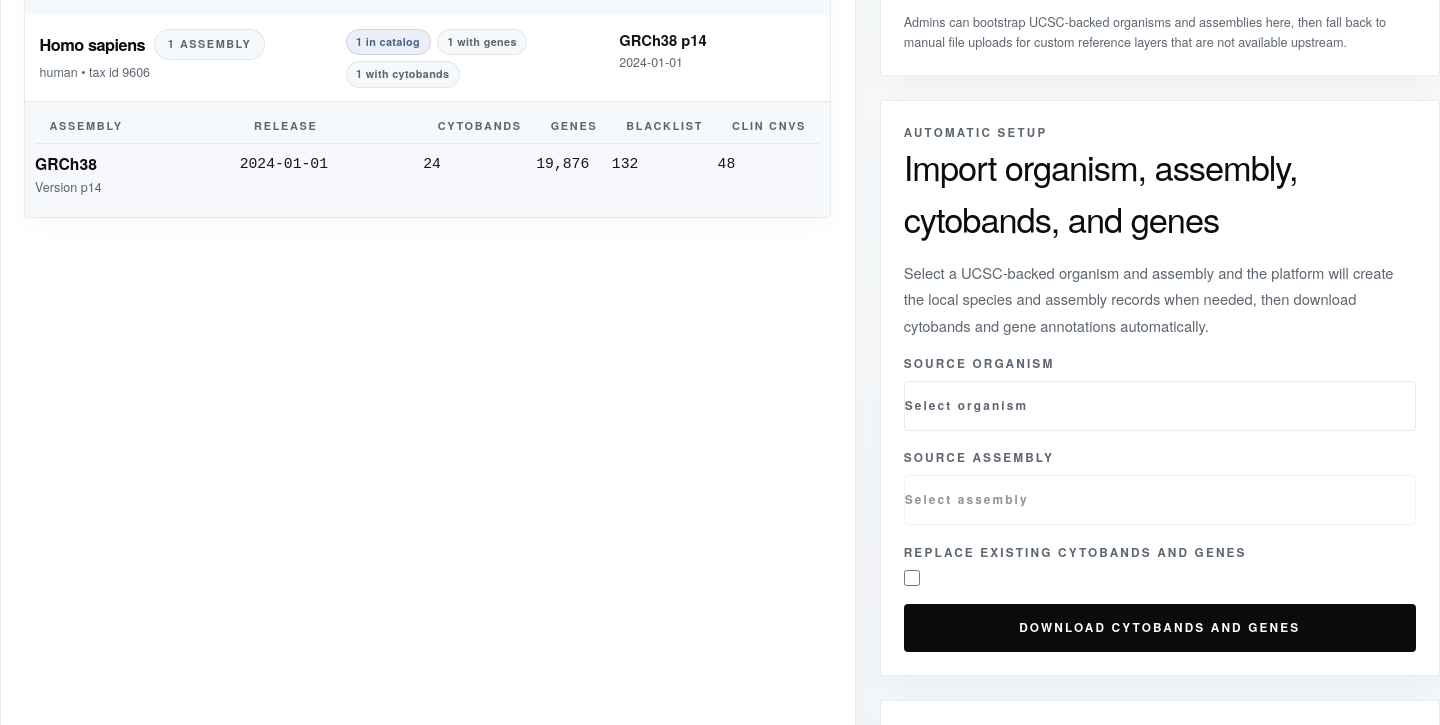
Test: ReferenceCatalogPage › imports an organism and assembly from the automatic UCSC flow
(page scrolled)
Expected: the heading "Homo sapiens" is shown, [40,34,145,55]
Select "Homo sapiens (human) • 2 assemblies" in the dropdown labelled "Source organism" at (1160, 406), box [904,380,1416,431]
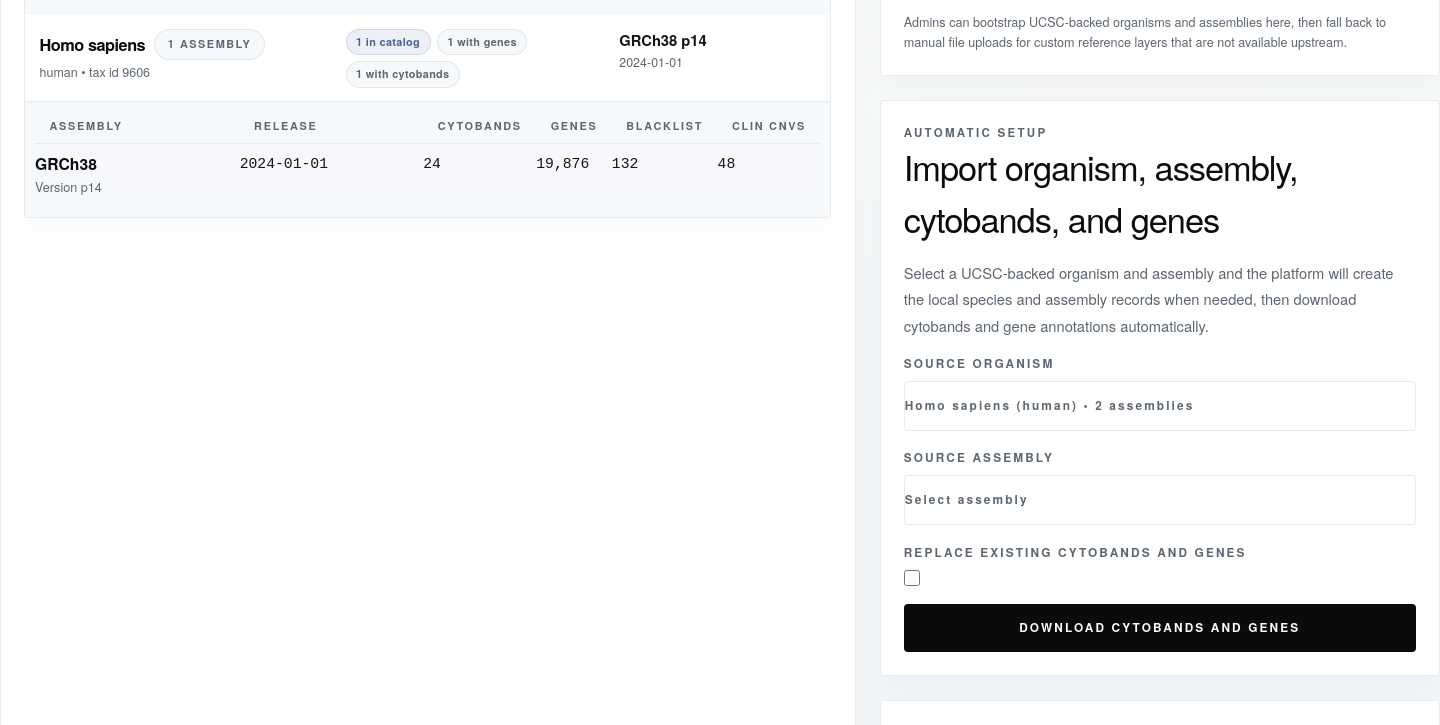
Select "GRCh38 p14 (hg38)" in the dropdown labelled "Source assembly" at (1160, 500), box [904,475,1416,526]
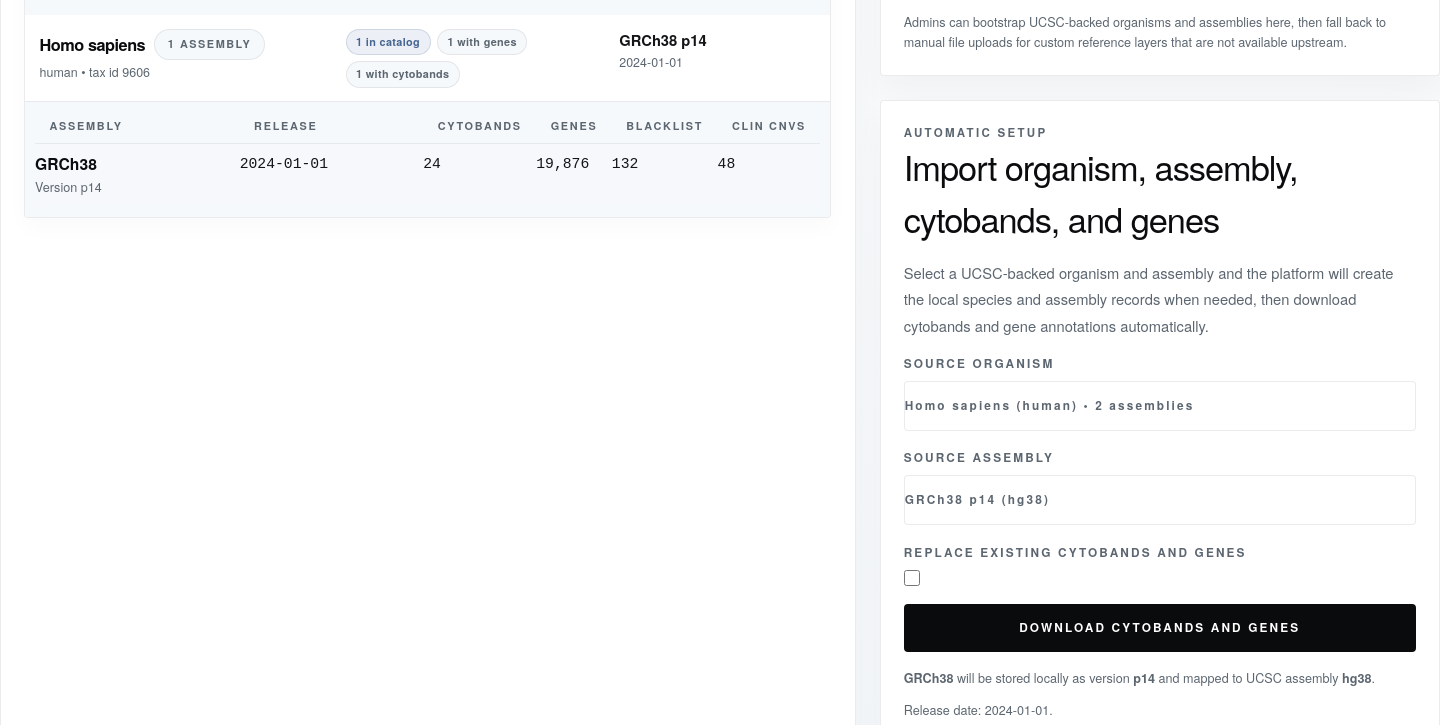
Click the button "Download cytobands and genes" at (1160, 628), box [904,604,1416,652]
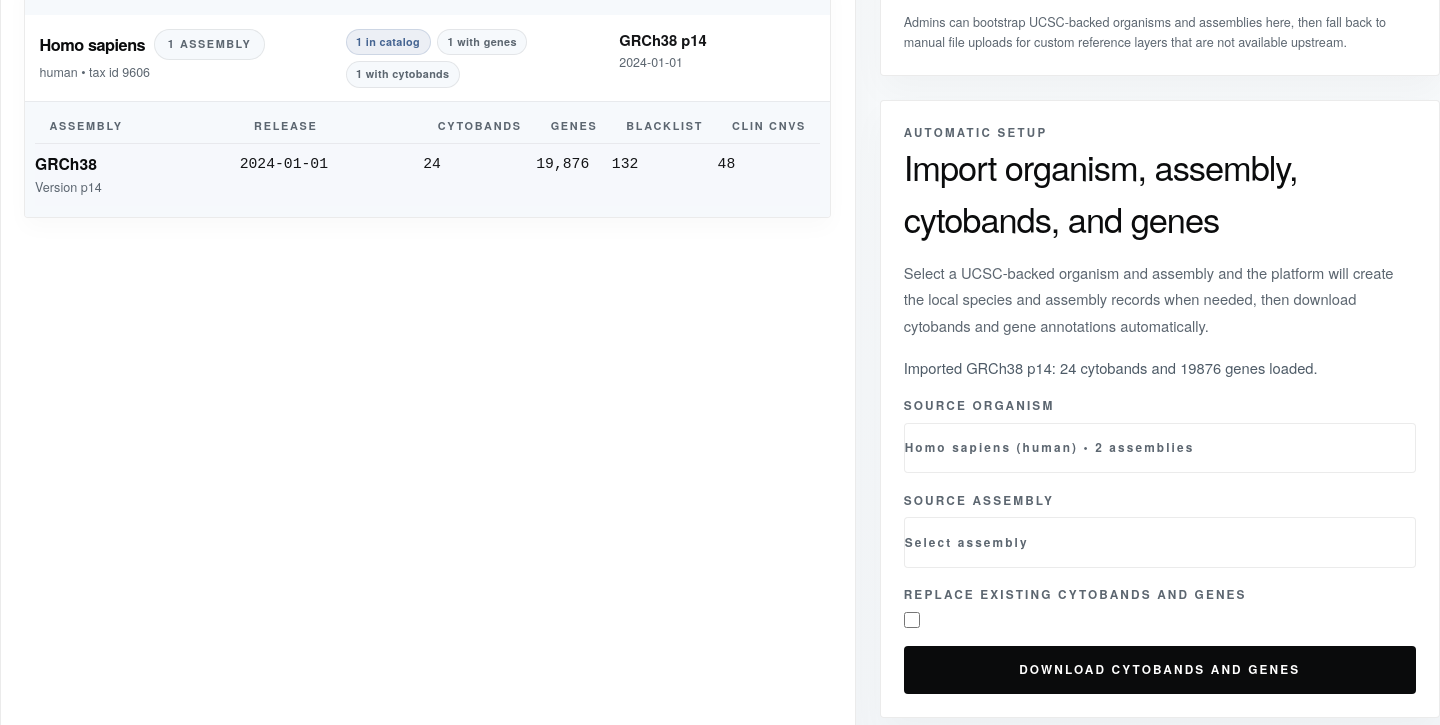
Expected: the text "Imported GRCh38 p14: 24 cytobands and 19876 genes loaded." is shown, [904,357,1318,378]
